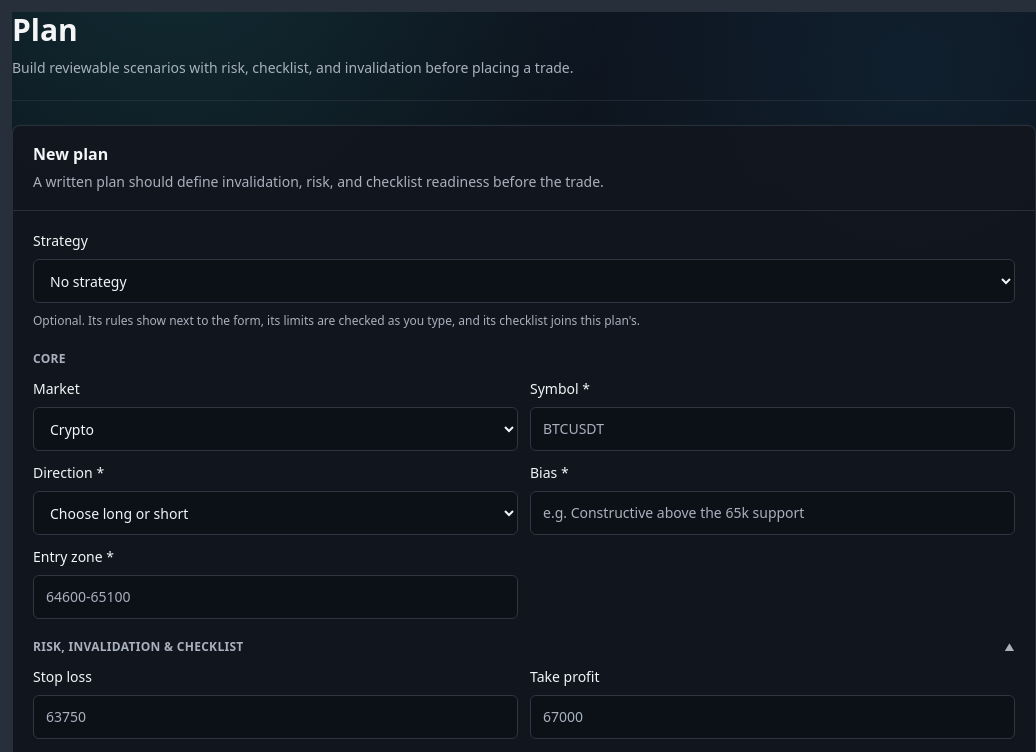
it: choosing a strategy shows its rules next to the form, read-only › says when the strategy has no limits and no rules of a kind, without empty headings
Select "Breakout" in the 1st dropdown at (524, 281), box [33, 259, 1015, 303]
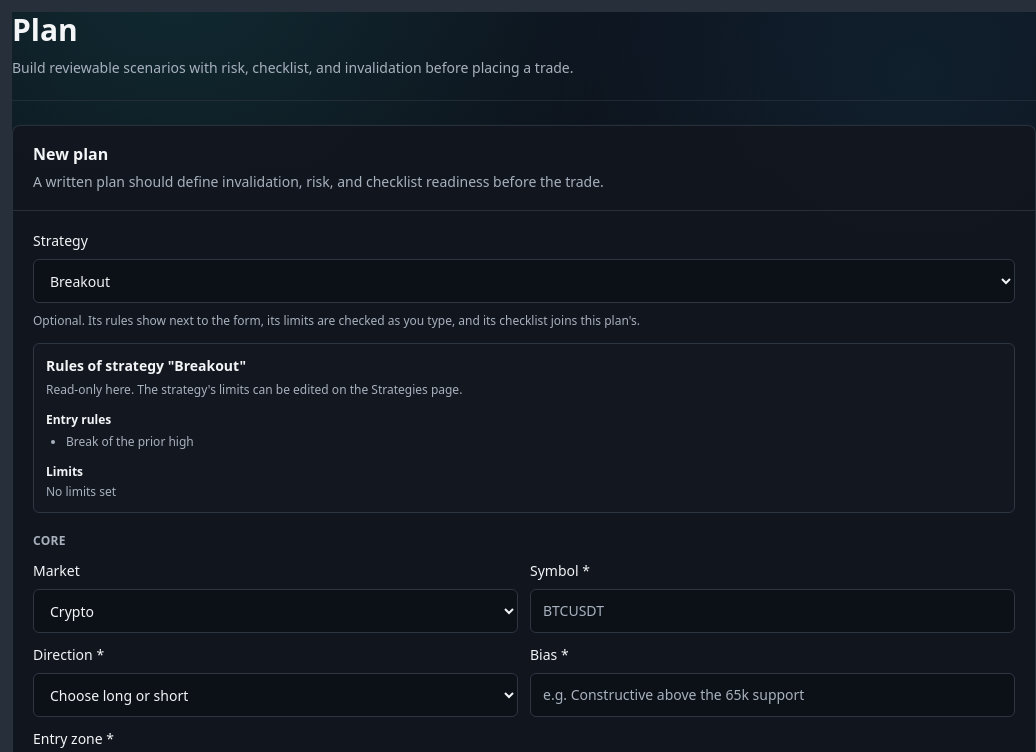
Check: the element "Breakout" does not show "Invalidation rules", box [33, 343, 1015, 513]
Check: the element "Breakout" shows "Break of the prior high", box [66, 433, 194, 450]
Check: the element "Breakout" shows "No limits set", box [46, 483, 116, 500]
